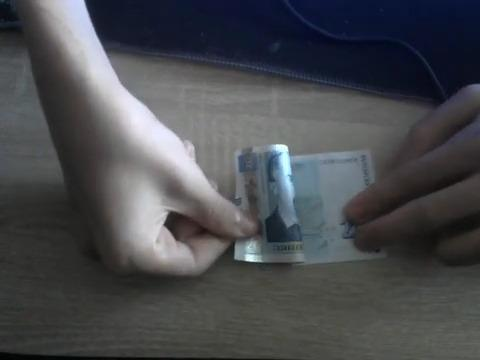20leva: (235, 145, 382, 266)
